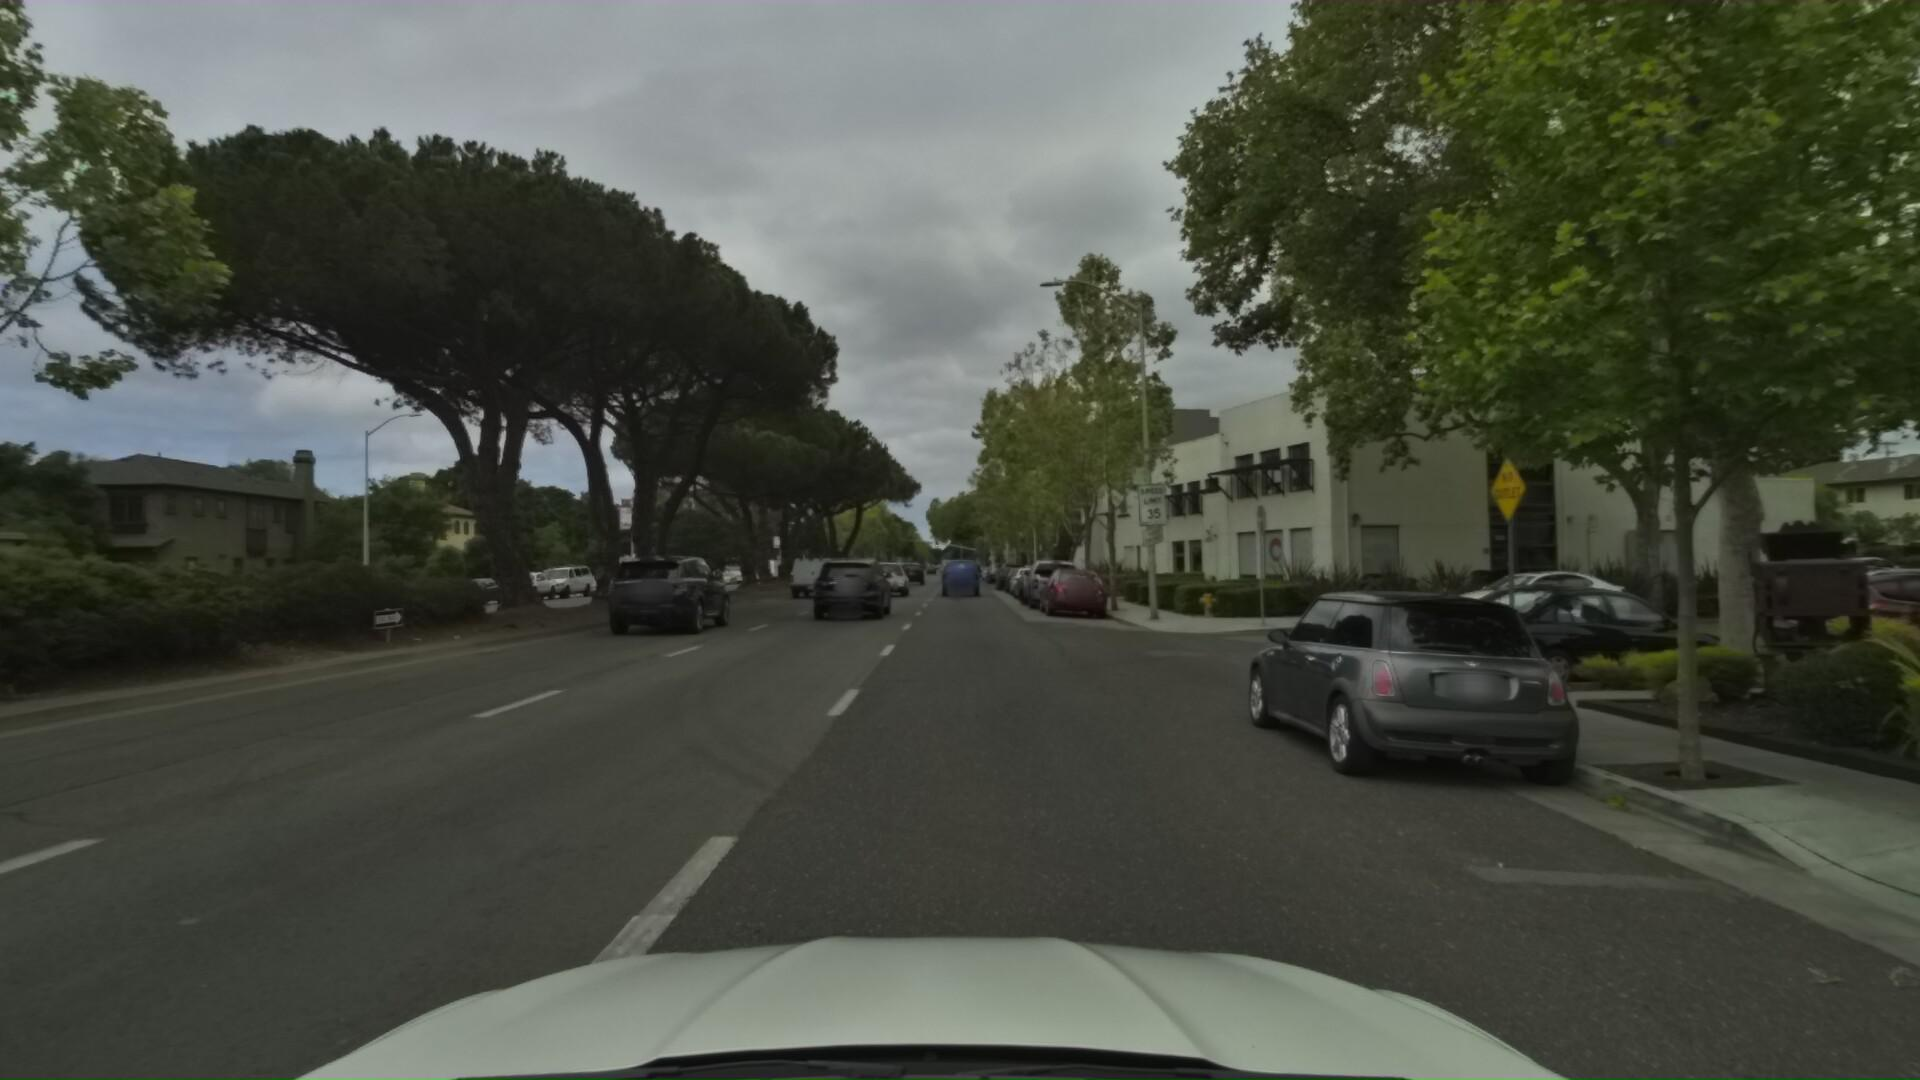car: (1236, 568, 1691, 819), (1420, 567, 1792, 703), (1746, 547, 1920, 686), (1422, 558, 1654, 633), (592, 542, 738, 640), (804, 549, 899, 626), (1015, 549, 1092, 607), (1038, 558, 1116, 615), (786, 549, 847, 597), (493, 562, 566, 600), (531, 556, 600, 593), (862, 551, 914, 599), (939, 554, 984, 597), (1009, 558, 1054, 592), (996, 553, 1034, 585), (903, 556, 932, 585), (986, 556, 1014, 578)
other_vehicle: (0, 487, 82, 690), (607, 543, 671, 585)
